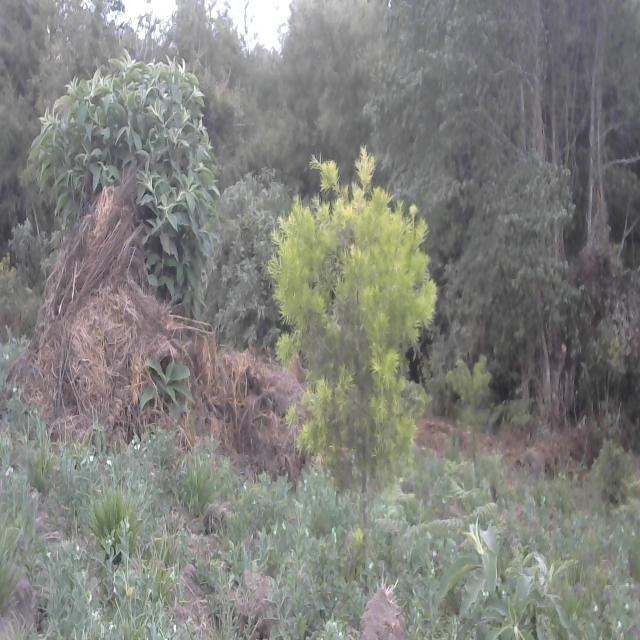Podocarpus falcatus: (272, 153, 460, 583)
